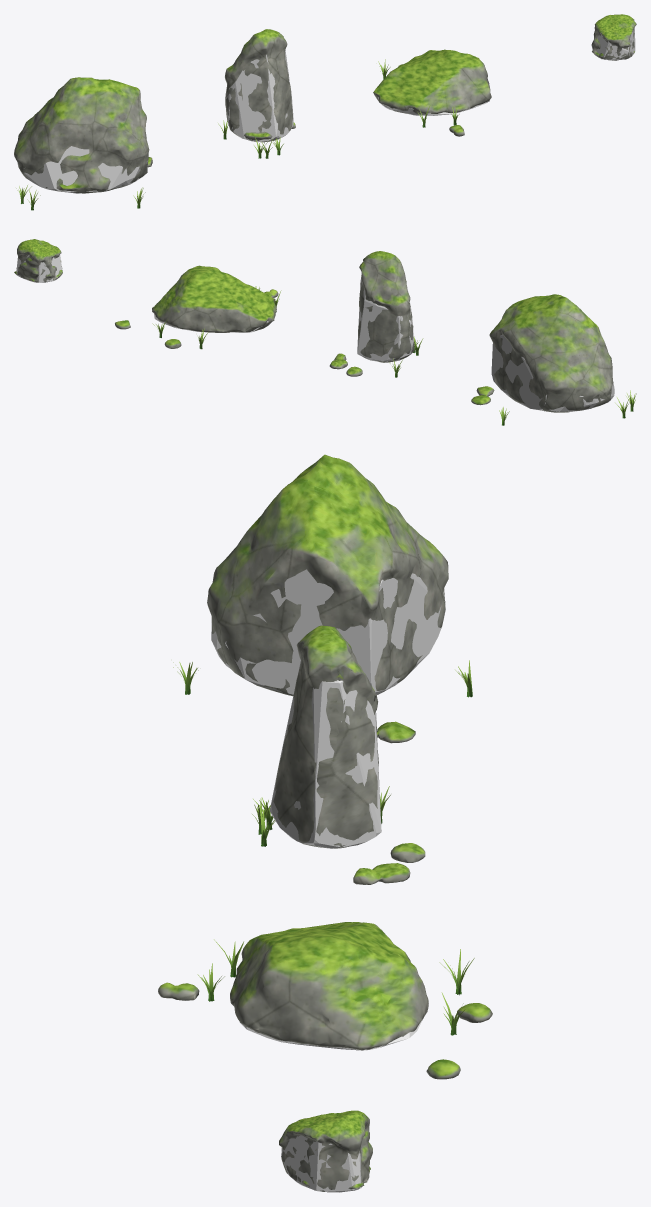
The model's file is moss_rocks.glb.
The picture shows the model from 3 angles, top to bottom: view 1: azimuth 30°, elevation 25°; view 2: azimuth 150°, elevation 25°; view 3: azimuth 270°, elevation 25°; orthographic projection. The views are drawn at different scales.
Visible parts, largest first — view 1: SM_Rock_big, SM_Rock_flat, SM_Rock_tall, COL_rock_tall, COL_rock_big, SM_Rock_small, COL_rock_small; view 2: SM_Rock_big, SM_Rock_flat, SM_Rock_tall, COL_rock_big, SM_Rock_small, COL_rock_tall, COL_rock_small; view 3: SM_Rock_big, SM_Rock_flat, SM_Rock_tall, COL_rock_big, COL_rock_tall, SM_Rock_small, COL_rock_small.
Part boxes in pixels (x1,y1,x2,y2): SM_Rock_big: (14, 77, 152, 193); SM_Rock_flat: (373, 49, 491, 136); SM_Rock_tall: (225, 29, 295, 142); COL_rock_tall: (226, 50, 293, 142); COL_rock_big: (17, 146, 147, 193); SM_Rock_small: (591, 14, 636, 60); COL_rock_small: (594, 27, 635, 60); SM_Rock_big: (471, 294, 613, 412); SM_Rock_flat: (115, 265, 278, 348); SM_Rock_tall: (329, 251, 414, 376); COL_rock_big: (491, 334, 614, 412); SM_Rock_small: (14, 239, 62, 282); COL_rock_tall: (357, 275, 414, 361); COL_rock_small: (16, 255, 62, 282); SM_Rock_big: (207, 454, 448, 743); SM_Rock_flat: (158, 922, 492, 1079); SM_Rock_tall: (273, 625, 425, 884); COL_rock_big: (211, 569, 445, 694); COL_rock_tall: (269, 661, 381, 848); SM_Rock_small: (279, 1110, 372, 1191); COL_rock_small: (281, 1135, 362, 1192).
Bounding box in the file's own units: 11.29 × 1.94 × 2.7.
5 materials, 4 textured.
